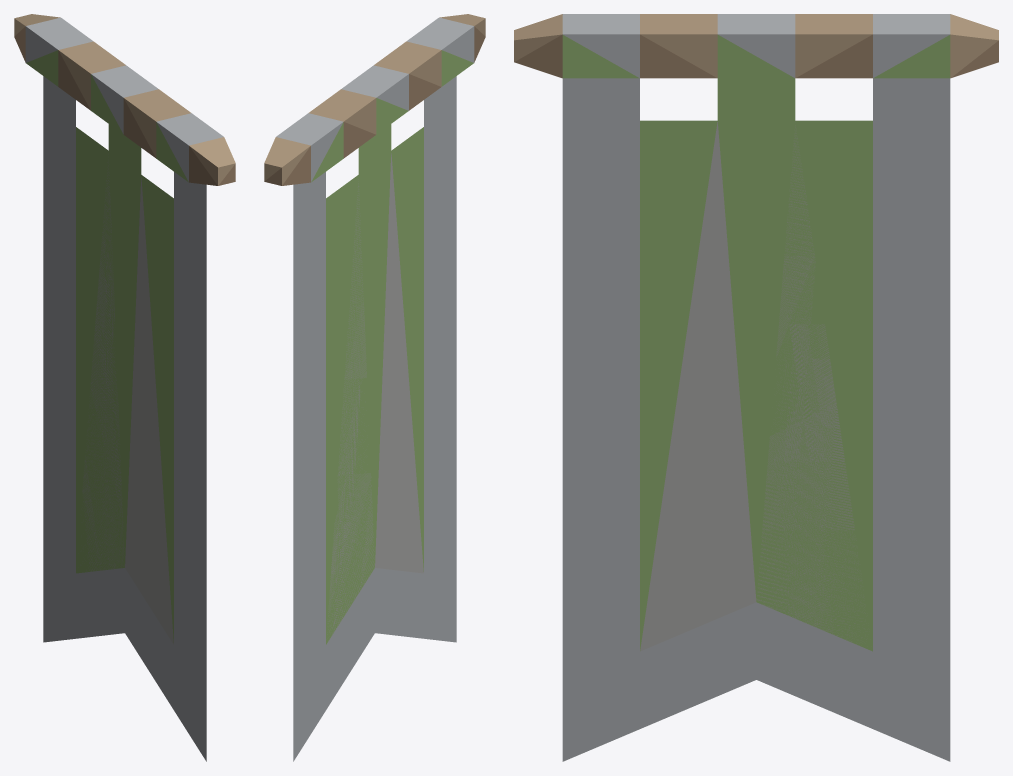
3 renders of one model, left to right at view 1: azimuth 30°, elevation 25°; view 2: azimuth 150°, elevation 25°; view 3: azimuth 270°, elevation 25°, orthographic. The views are drawn at different scales.
Visible parts, largest first — view 1: model; view 2: model; view 3: model.
Part boxes in pixels (bbox=[...]): model: bbox=[14, 14, 235, 761]; model: bbox=[264, 14, 485, 761]; model: bbox=[514, 14, 998, 761].
Size of the model in its own units: 0.1 by 1.68 by 1.
